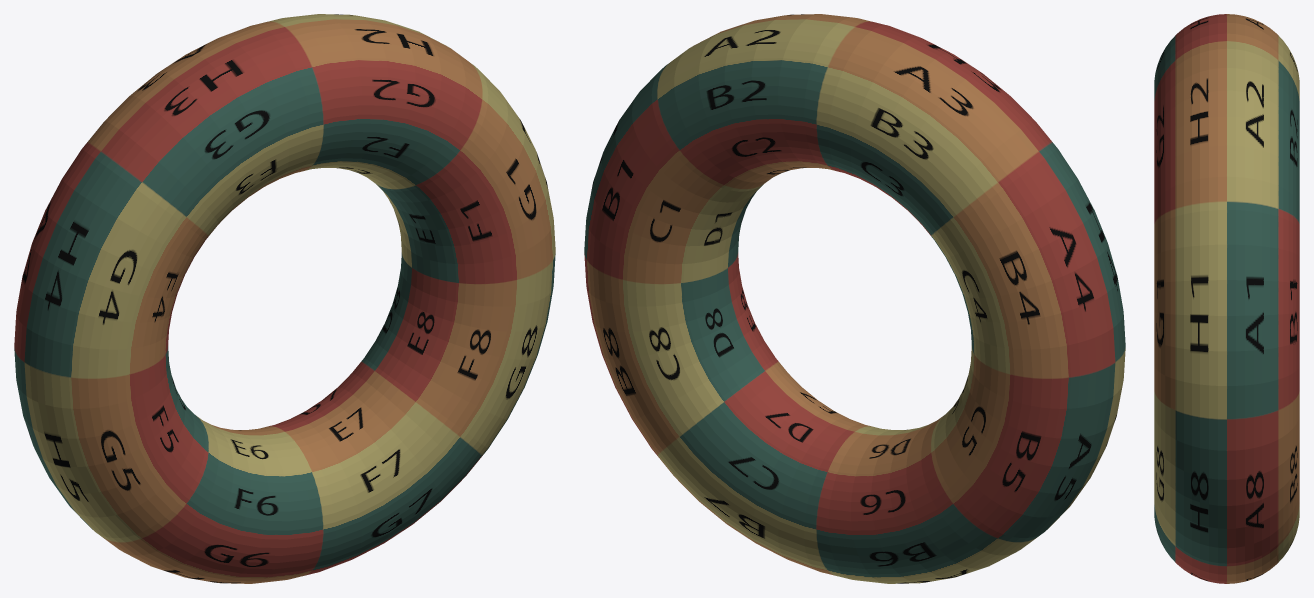
File: texture_torus_R10_r14.glb
3 views of the same model, side by side, from view 1: azimuth 30°, elevation 25°; view 2: azimuth 150°, elevation 25°; view 3: azimuth 270°, elevation 25° (orthographic). The views are drawn at different scales.
Visible parts, largest first — view 1: world; view 2: world; view 3: world.
Boxes of the visible parts, left/top/right/bottom form: world: left=14, top=14, right=555, bottom=583; world: left=584, top=14, right=1125, bottom=583; world: left=1154, top=14, right=1299, bottom=583.
Size of the model in its own units: 22.4 by 22.36 by 5.72.
1 material, 1 textured.
